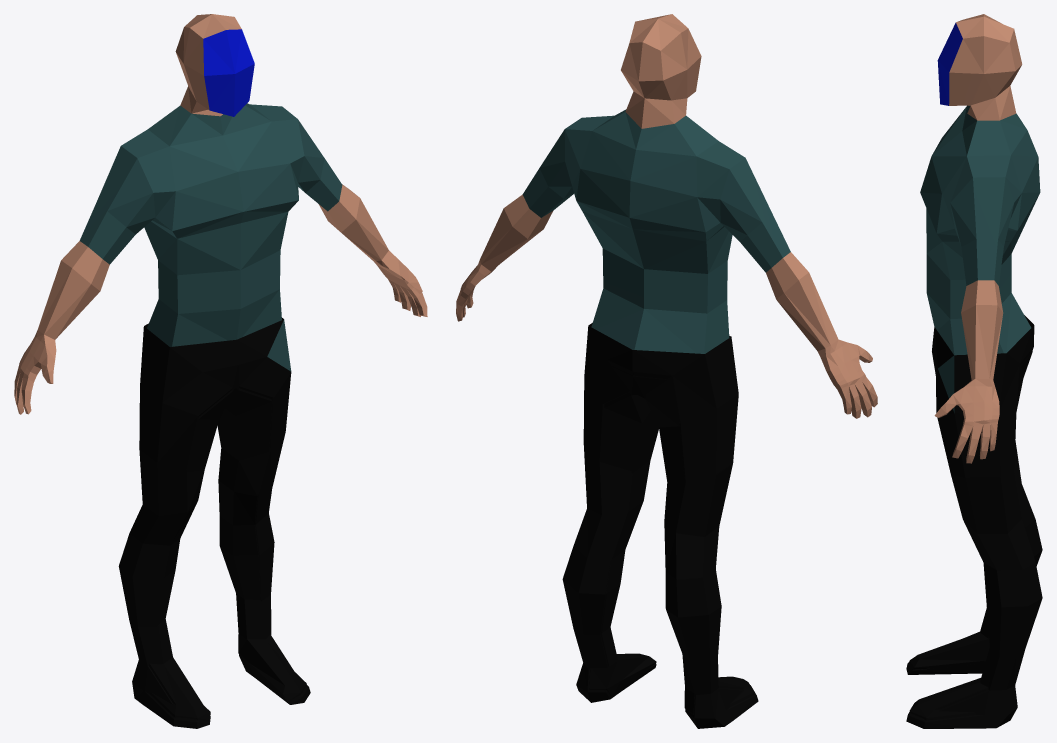
The model's file is juru_kunci.dae.
The picture shows the model from 3 angles, left to right: view 1: azimuth 30°, elevation 25°; view 2: azimuth 150°, elevation 25°; view 3: azimuth 270°, elevation 25°; orthographic projection. The views are drawn at different scales.
Parts seen in each view (by area): view 1: Cube_001; view 2: Cube_001; view 3: Cube_001.
Part boxes in pixels (<box>): Cube_001: <box>14,14,427,728</box>; Cube_001: <box>456,14,877,728</box>; Cube_001: <box>906,14,1042,728</box>.
Size of the model in its own units: 3.52 by 1.02 by 5.6.
